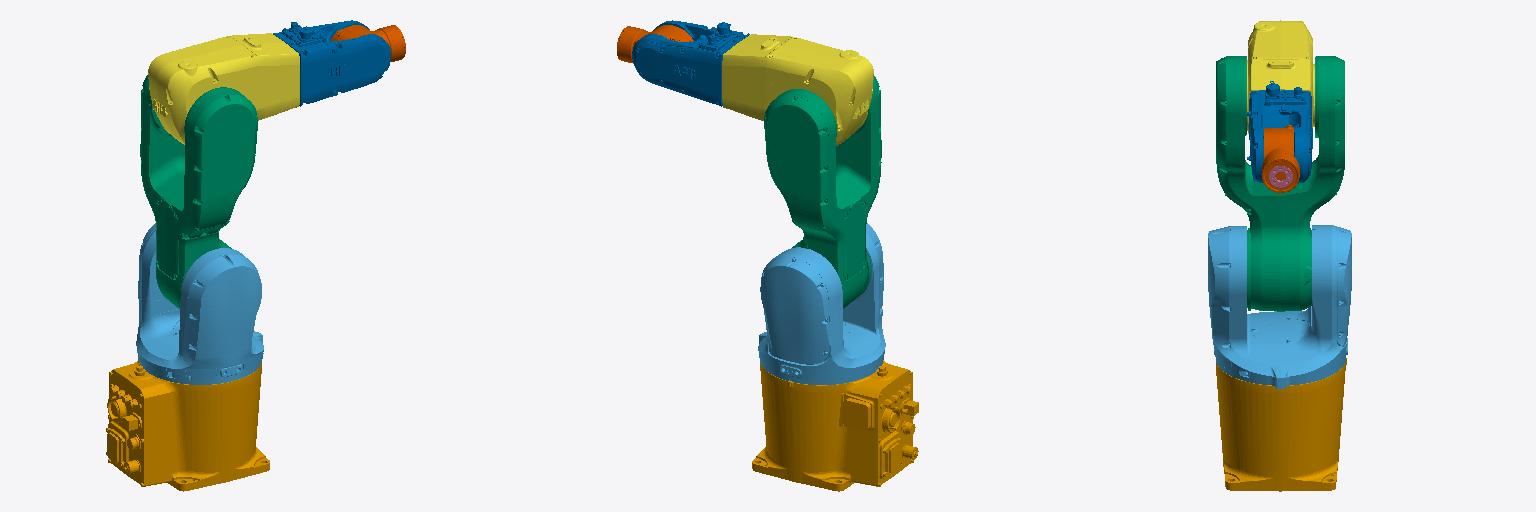
URDF robot description (IRB1200H_7-70-STD):
<?xml version="1.0" ?>
<robot name="IRB1200H_7-70-STD">

<link name="base_link">
  <inertial>
    <origin xyz="-0.02363502115054783 0.0004753411198600945 0.11218944380427573" rpy="0 0 0"/>
    <mass value="83.56281675930377"/>
    <inertia ixx="0.579272" iyy="0.781174" izz="0.698162" ixy="0.004319" iyz="-0.001283" ixz="-0.00506"/>
  </inertial>
  <visual>
    <origin xyz="0 0 0" rpy="0 0 0"/>
    <geometry>
      <mesh filename="package://IRB1200H_7-70-STD_description/meshes/base_link.stl" scale="0.001 0.001 0.001"/>
    </geometry>
    <material name="silver"/>
  </visual>
  <collision>
    <origin xyz="0 0 0" rpy="0 0 0"/>
    <geometry>
      <mesh filename="package://IRB1200H_7-70-STD_description/meshes/base_link.stl" scale="0.001 0.001 0.001"/>
    </geometry>
  </collision>
</link>

<link name="link_1_1">
  <inertial>
    <origin xyz="-0.0032574143563410597 0.0004228928818921135 0.10229437430585911" rpy="0 0 0"/>
    <mass value="47.62183211112662"/>
    <inertia ixx="0.595344" iyy="0.377408" izz="0.433985" ixy="-0.000147" iyz="0.000705" ixz="-0.004382"/>
  </inertial>
  <visual>
    <origin xyz="-0.0 -0.0 -0.219" rpy="0 0 0"/>
    <geometry>
      <mesh filename="package://IRB1200H_7-70-STD_description/meshes/link_1_1.stl" scale="0.001 0.001 0.001"/>
    </geometry>
    <material name="silver"/>
  </visual>
  <collision>
    <origin xyz="-0.0 -0.0 -0.219" rpy="0 0 0"/>
    <geometry>
      <mesh filename="package://IRB1200H_7-70-STD_description/meshes/link_1_1.stl" scale="0.001 0.001 0.001"/>
    </geometry>
  </collision>
</link>

<link name="link_2_1">
  <inertial>
    <origin xyz="-0.009944347609699757 0.06037825705225541 0.16624234768686852" rpy="0 0 0"/>
    <mass value="54.93093636945645"/>
    <inertia ixx="1.322479" iyy="1.146829" izz="0.3246" ixy="0.000481" iyz="6e-05" ixz="-0.006609"/>
  </inertial>
  <visual>
    <origin xyz="-0.0 0.0615 -0.3991" rpy="0 0 0"/>
    <geometry>
      <mesh filename="package://IRB1200H_7-70-STD_description/meshes/link_2_1.stl" scale="0.001 0.001 0.001"/>
    </geometry>
    <material name="silver"/>
  </visual>
  <collision>
    <origin xyz="-0.0 0.0615 -0.3991" rpy="0 0 0"/>
    <geometry>
      <mesh filename="package://IRB1200H_7-70-STD_description/meshes/link_2_1.stl" scale="0.001 0.001 0.001"/>
    </geometry>
  </collision>
</link>

<link name="link_3_1">
  <inertial>
    <origin xyz="0.04273309398912055 0.06101103306372527 0.035299755142302436" rpy="0 0 0"/>
    <mass value="38.854634298936446"/>
    <inertia ixx="0.127707" iyy="0.302841" izz="0.263122" ixy="6.1e-05" iyz="-8.6e-05" ixz="-0.012088"/>
  </inertial>
  <visual>
    <origin xyz="-0.0 0.061 -0.7491" rpy="0 0 0"/>
    <geometry>
      <mesh filename="package://IRB1200H_7-70-STD_description/meshes/link_3_1.stl" scale="0.001 0.001 0.001"/>
    </geometry>
    <material name="silver"/>
  </visual>
  <collision>
    <origin xyz="-0.0 0.061 -0.7491" rpy="0 0 0"/>
    <geometry>
      <mesh filename="package://IRB1200H_7-70-STD_description/meshes/link_3_1.stl" scale="0.001 0.001 0.001"/>
    </geometry>
  </collision>
</link>

<link name="link_4_1">
  <inertial>
    <origin xyz="0.09376827741240087 0.0016293023500022993 0.0010874229942521296" rpy="0 0 0"/>
    <mass value="14.103514853516494"/>
    <inertia ixx="0.029406" iyy="0.057716" izz="0.061956" ixy="-0.001377" iyz="-1.2e-05" ixz="0.000468"/>
  </inertial>
  <visual>
    <origin xyz="-0.1655 0.00012 -0.791099" rpy="0 0 0"/>
    <geometry>
      <mesh filename="package://IRB1200H_7-70-STD_description/meshes/link_4_1.stl" scale="0.001 0.001 0.001"/>
    </geometry>
    <material name="silver"/>
  </visual>
  <collision>
    <origin xyz="-0.1655 0.00012 -0.791099" rpy="0 0 0"/>
    <geometry>
      <mesh filename="package://IRB1200H_7-70-STD_description/meshes/link_4_1.stl" scale="0.001 0.001 0.001"/>
    </geometry>
  </collision>
</link>

<link name="link_5_1">
  <inertial>
    <origin xyz="0.013848200109173203 -0.027811016104562186 5.4563116480554896e-05" rpy="0 0 0"/>
    <mass value="4.542326346976594"/>
    <inertia ixx="0.003479" iyy="0.008928" izz="0.007834" ixy="-0.000177" iyz="-4e-06" ixz="1.2e-05"/>
  </inertial>
  <visual>
    <origin xyz="-0.351 -0.025379 -0.7911" rpy="0 0 0"/>
    <geometry>
      <mesh filename="package://IRB1200H_7-70-STD_description/meshes/link_5_1.stl" scale="0.001 0.001 0.001"/>
    </geometry>
    <material name="silver"/>
  </visual>
  <collision>
    <origin xyz="-0.351 -0.025379 -0.7911" rpy="0 0 0"/>
    <geometry>
      <mesh filename="package://IRB1200H_7-70-STD_description/meshes/link_5_1.stl" scale="0.001 0.001 0.001"/>
    </geometry>
  </collision>
</link>

<link name="link_6_1">
  <inertial>
    <origin xyz="0.002845591460718222 3.5148072682996196e-07 -0.00036679995380684005" rpy="0 0 0"/>
    <mass value="0.036681809664465305"/>
    <inertia ixx="1e-05" iyy="5e-06" izz="5e-06" ixy="0.0" iyz="-0.0" ixz="-0.0"/>
  </inertial>
  <visual>
    <origin xyz="-0.4365 4e-06 -0.7911" rpy="0 0 0"/>
    <geometry>
      <mesh filename="package://IRB1200H_7-70-STD_description/meshes/link_6_1.stl" scale="0.001 0.001 0.001"/>
    </geometry>
    <material name="silver"/>
  </visual>
  <collision>
    <origin xyz="-0.4365 4e-06 -0.7911" rpy="0 0 0"/>
    <geometry>
      <mesh filename="package://IRB1200H_7-70-STD_description/meshes/link_6_1.stl" scale="0.001 0.001 0.001"/>
    </geometry>
  </collision>
</link>

<joint name="j1" type="continuous">
  <origin xyz="0.0 0.0 0.219" rpy="0 0 0"/>
  <parent link="base_link"/>
  <child link="link_1_1"/>
  <axis xyz="0.0 0.0 1.0"/>
</joint>

<joint name="j2" type="continuous">
  <origin xyz="0.0 -0.0615 0.1801" rpy="0 0 0"/>
  <parent link="link_1_1"/>
  <child link="link_2_1"/>
  <axis xyz="0.0 -1.0 0.0"/>
</joint>

<joint name="j3" type="continuous">
  <origin xyz="0.0 0.0005 0.35" rpy="0 0 0"/>
  <parent link="link_2_1"/>
  <child link="link_3_1"/>
  <axis xyz="0.0 -1.0 0.0"/>
</joint>

<joint name="j4" type="continuous">
  <origin xyz="0.1655 0.06088 0.041999" rpy="0 0 0"/>
  <parent link="link_3_1"/>
  <child link="link_4_1"/>
  <axis xyz="-1.0 0.0 1.7e-05"/>
</joint>

<joint name="j5" type="continuous">
  <origin xyz="0.1855 0.025499 1e-06" rpy="0 0 0"/>
  <parent link="link_4_1"/>
  <child link="link_5_1"/>
  <axis xyz="0.0 -1.0 0.0"/>
</joint>

<joint name="j6" type="continuous">
  <origin xyz="0.0855 -0.025383 0.0" rpy="0 0 0"/>
  <parent link="link_5_1"/>
  <child link="link_6_1"/>
  <axis xyz="1.0 0.0 0.0"/>
</joint>

</robot>

--- What the picture shows (computed from the rendered views, not written in the file) ---
Views: 3 orthographic renders of the robot side by side, from view 1: azimuth 30°, elevation 25°; view 2: azimuth 150°, elevation 25°; view 3: azimuth 270°, elevation 25°.
Robot: IRB1200H_7-70-STD — 7 links, 6 joints (6 continuous); root link base_link; default pose: all joints at 0.
Links seen in each view (by area): view 1: base_link, link_2_1, link_1_1, link_3_1, link_4_1, link_5_1; view 2: base_link, link_2_1, link_1_1, link_3_1, link_4_1, link_5_1; view 3: link_2_1, link_1_1, base_link, link_3_1, link_4_1, link_5_1.
Link boxes in pixels (box(x1,y1,x2,y2)): base_link: box(106, 359, 269, 491); link_2_1: box(140, 75, 257, 308); link_1_1: box(136, 223, 263, 384); link_3_1: box(148, 33, 299, 144); link_4_1: box(273, 20, 390, 106); link_5_1: box(330, 25, 405, 61); base_link: box(752, 360, 918, 491); link_2_1: box(764, 76, 881, 308); link_1_1: box(758, 223, 885, 384); link_3_1: box(722, 34, 873, 145); link_4_1: box(632, 20, 749, 106); link_5_1: box(617, 25, 693, 63); link_2_1: box(1216, 56, 1344, 311); link_1_1: box(1208, 225, 1351, 388); base_link: box(1216, 358, 1346, 491); link_3_1: box(1247, 20, 1314, 133); link_4_1: box(1247, 81, 1312, 182); link_5_1: box(1262, 125, 1299, 192).
Bounding box of the posed robot: 0.6346 × 0.2636 × 0.8796 m (x, y, z).
Meshes: 7 distinct files referenced, 7 mesh visuals loaded (7 binary STL).